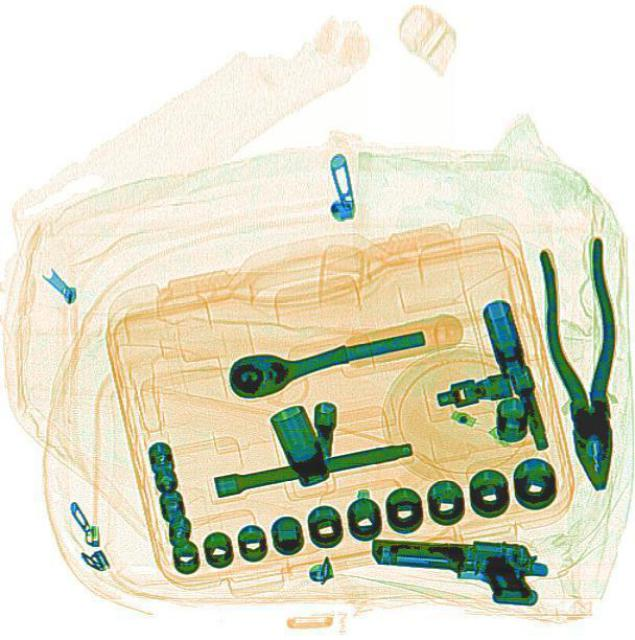Gun: (366, 533, 547, 603)
Pliers: (536, 235, 633, 489)
